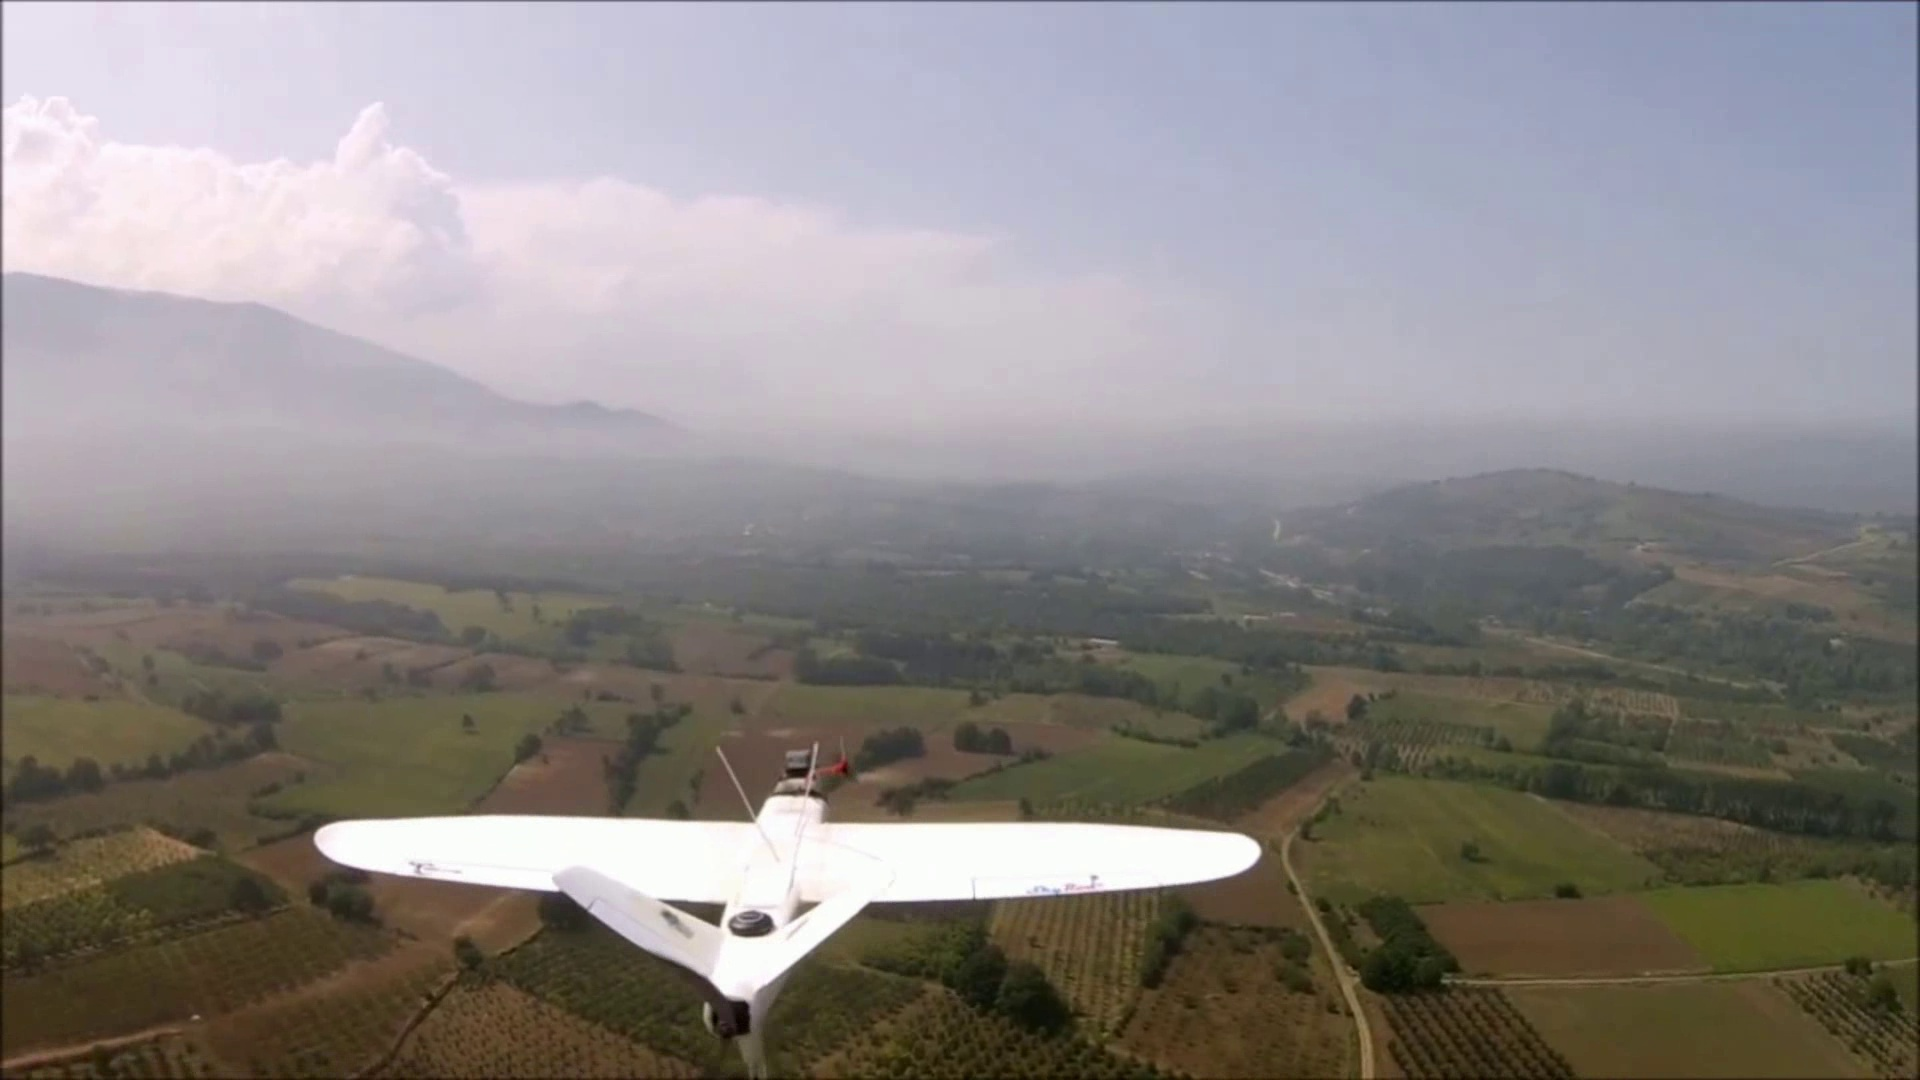airplane: (310, 796, 1262, 1042)
